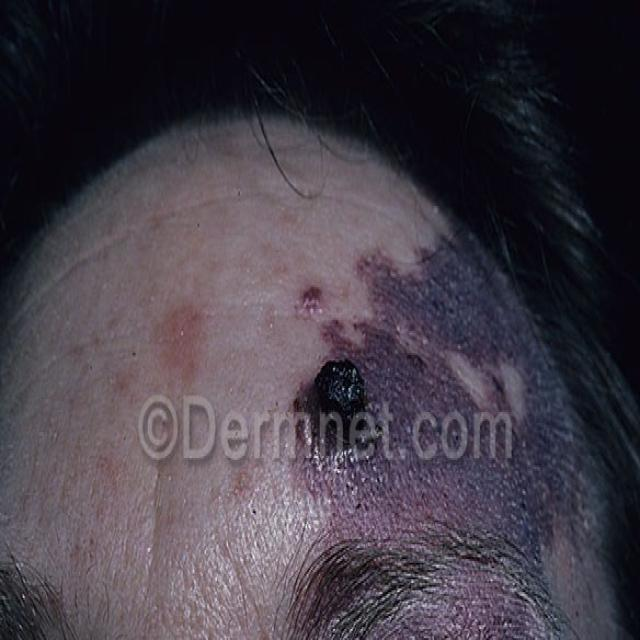Vascular Tumors: (268, 184, 592, 598)
